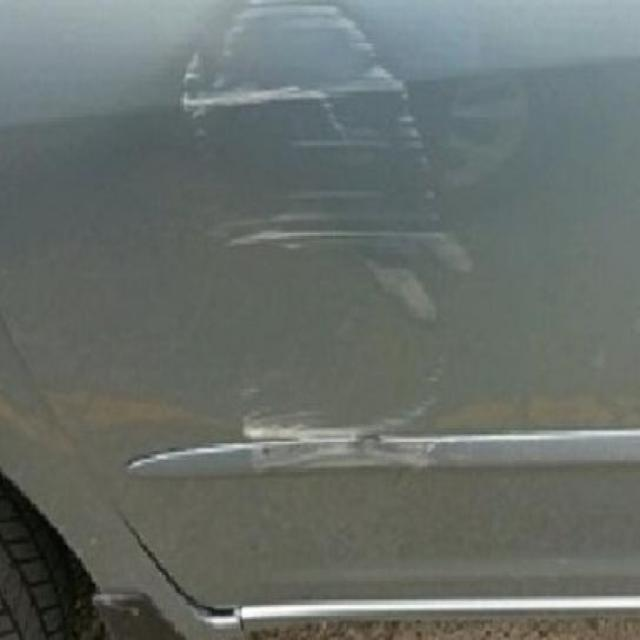scratch: (170, 8, 478, 482)
